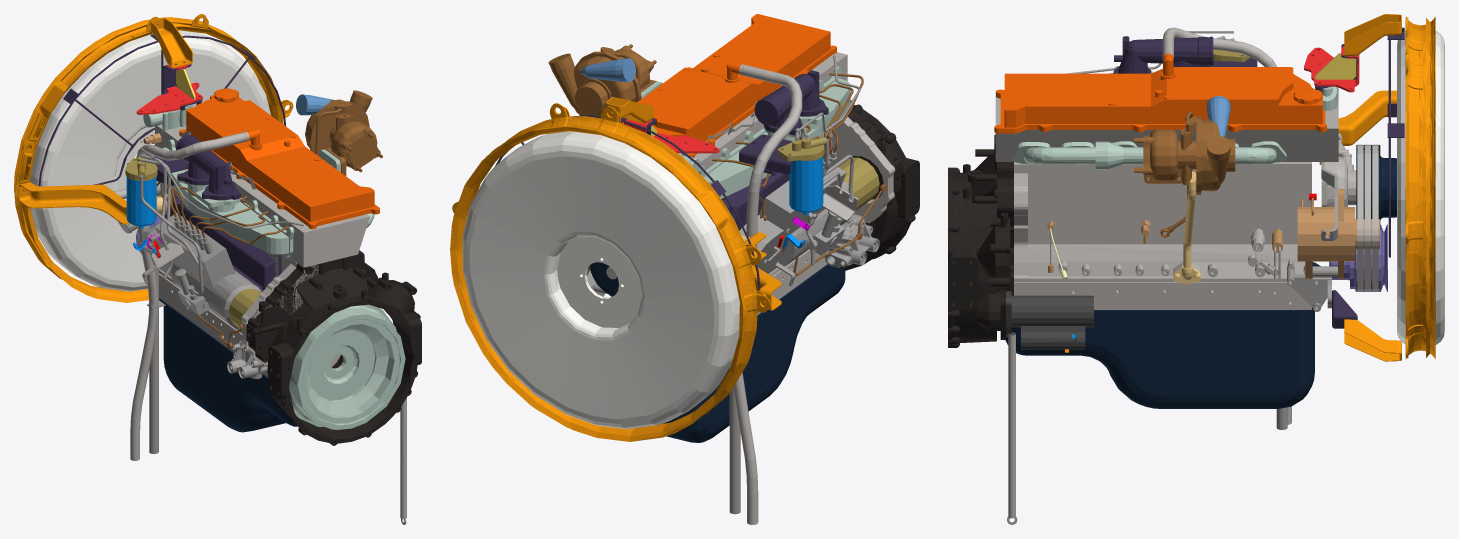
Rendered from engine.glb.
3 views of the same model, side by side, from view 1: azimuth 30°, elevation 25°; view 2: azimuth 150°, elevation 25°; view 3: azimuth 270°, elevation 25° (orthographic). The views are drawn at different scales.
Parts seen in each view (by area): view 1: ZX370GI_ENGINE/ENG_6HK1TC_ASM_4436720_2_ZAXIS370GI_jt [ENG_6 (×27), ZX370GI_ENGINE/PPZX330-3CZ-ENG-PARTS-OTHER%58dum1501462 [PPZ (×4); view 2: ZX370GI_ENGINE/ENG_6HK1TC_ASM_4436720_2_ZAXIS370GI_jt [ENG_6 (×23), ZX370GI_ENGINE/PPZX330-3CZ-ENG-PARTS-OTHER%58dum1501462 [PPZ (×4); view 3: ZX370GI_ENGINE/ENG_6HK1TC_ASM_4436720_2_ZAXIS370GI_jt [ENG_6 (×28), ZX370GI_ENGINE/PPZX330-3CZ-ENG-PARTS-OTHER%58dum1501462 [PPZ (×4).
Boxes of the visible parts, x1,y1,x2,y2 form: ZX370GI_ENGINE/ENG_6HK1TC_ASM_4436720_2_ZAXIS370GI_jt [ENG_6 (×27): (14,14,421,524); ZX370GI_ENGINE/PPZX330-3CZ-ENG-PARTS-OTHER%58dum1501462 [PPZ (×4): (130,69,333,460); ZX370GI_ENGINE/ENG_6HK1TC_ASM_4436720_2_ZAXIS370GI_jt [ENG_6 (×23): (450,14,919,514); ZX370GI_ENGINE/PPZX330-3CZ-ENG-PARTS-OTHER%58dum1501462 [PPZ (×4): (581,58,874,524); ZX370GI_ENGINE/ENG_6HK1TC_ASM_4436720_2_ZAXIS370GI_jt [ENG_6 (×28): (948,14,1444,524); ZX370GI_ENGINE/PPZX330-3CZ-ENG-PARTS-OTHER%58dum1501462 [PPZ (×4): (1162,27,1359,424).
Bounding box in the file's own units: 0.9951 × 1.37 × 1.33.
